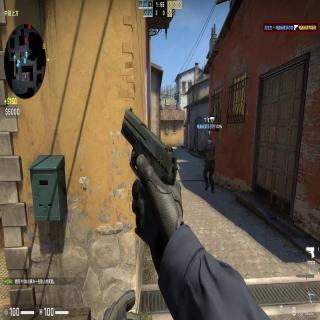CT-Body: (200, 138, 216, 192)
CT-Head: (207, 140, 212, 146)
